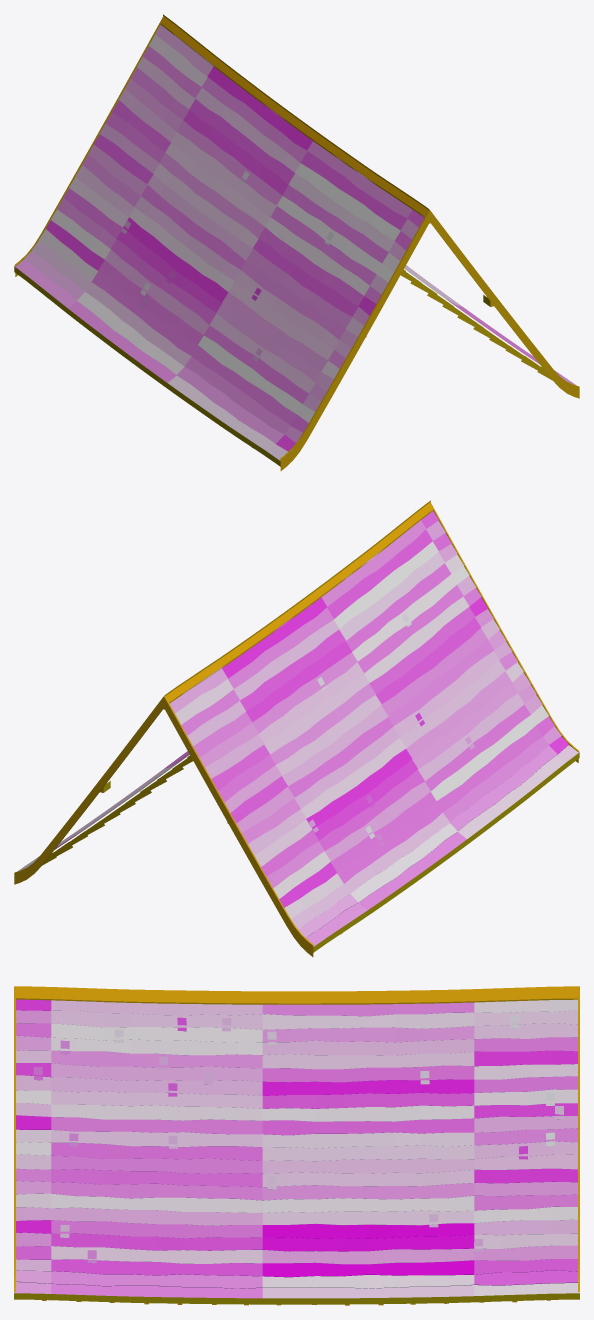
File: roof_s_6x10.glb
3 renders of one model, top to bottom at view 1: azimuth 30°, elevation 25°; view 2: azimuth 150°, elevation 25°; view 3: azimuth 270°, elevation 25°, orthographic. The views are drawn at different scales.
Visible parts, largest first — view 1: roof_s_6x10; view 2: roof_s_6x10; view 3: roof_s_6x10.
Boxes of the visible parts, x1,y1,x2,y2 form: roof_s_6x10: [14, 14, 579, 470]; roof_s_6x10: [14, 500, 579, 956]; roof_s_6x10: [14, 986, 579, 1305].
Size of the model in its own units: 6.96 by 5.06 by 10.7.
